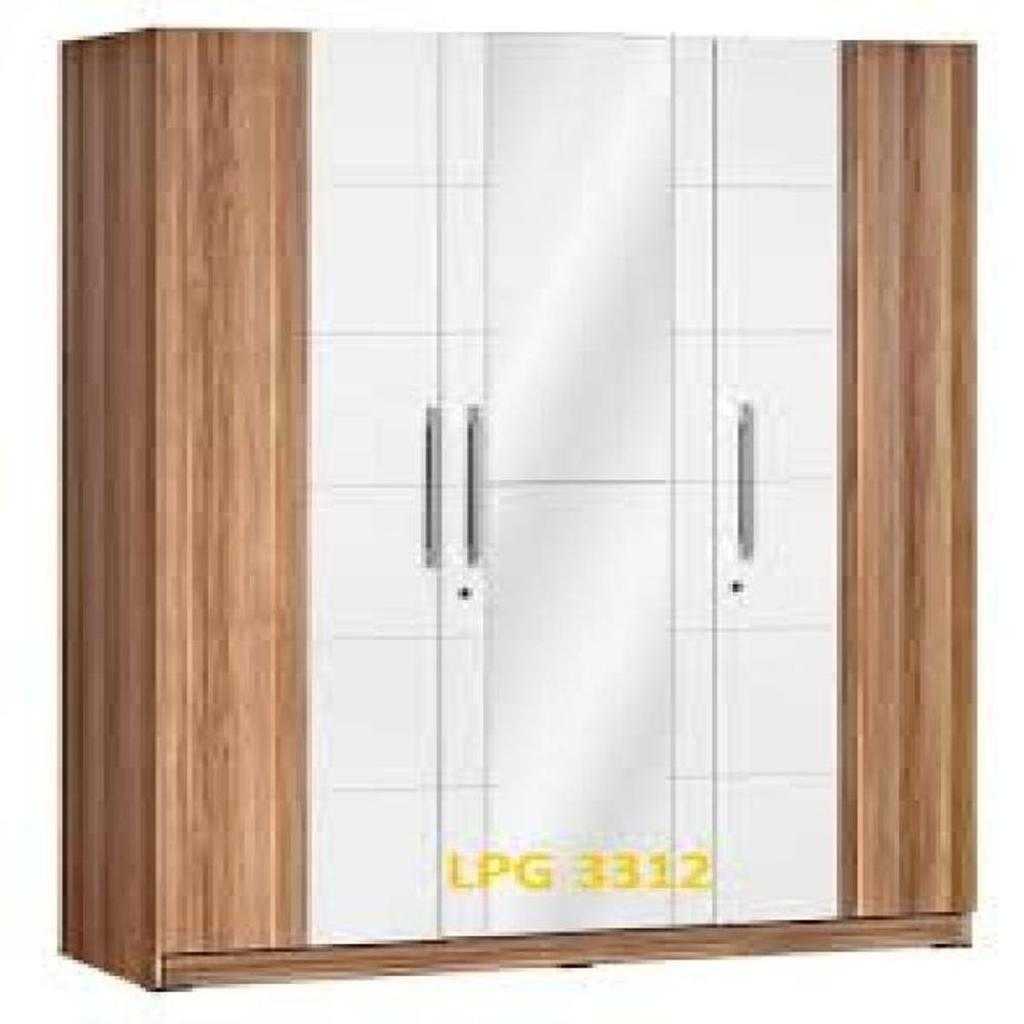cabinet: (55, 24, 988, 996)
